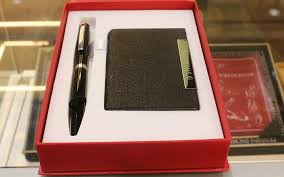pen: (68, 13, 93, 140)
